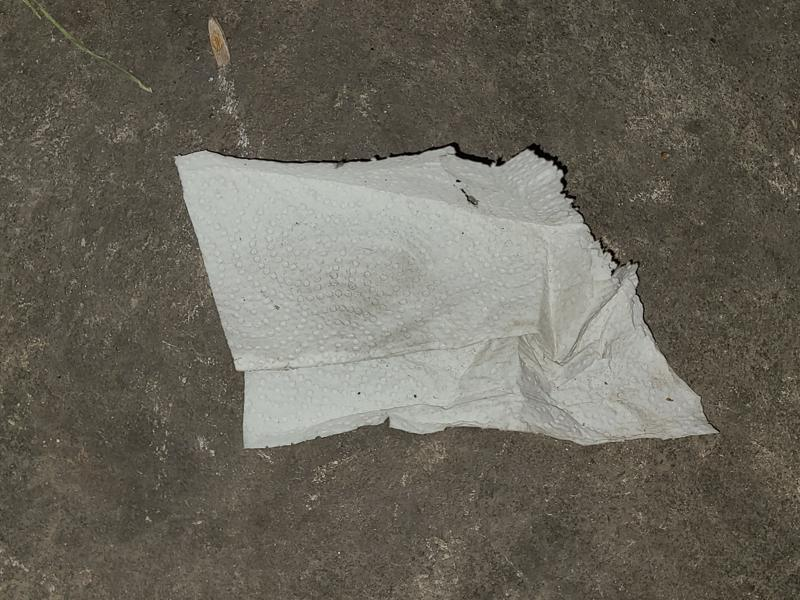papel: (173, 145, 717, 451)
